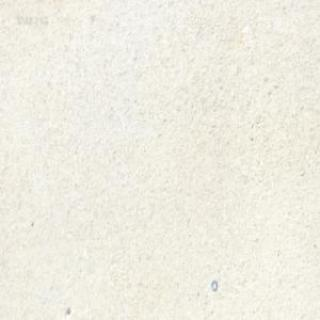Washertrack_idkeyframe: (210, 279, 217, 291)
